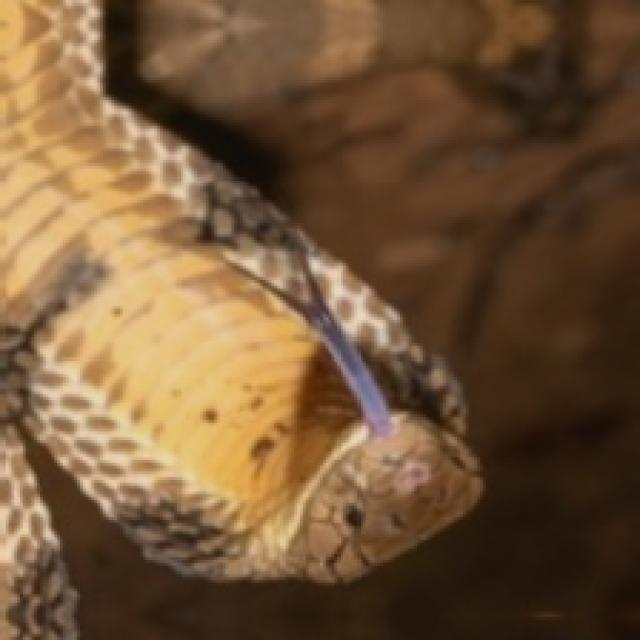king cobra: (0, 0, 480, 637)
